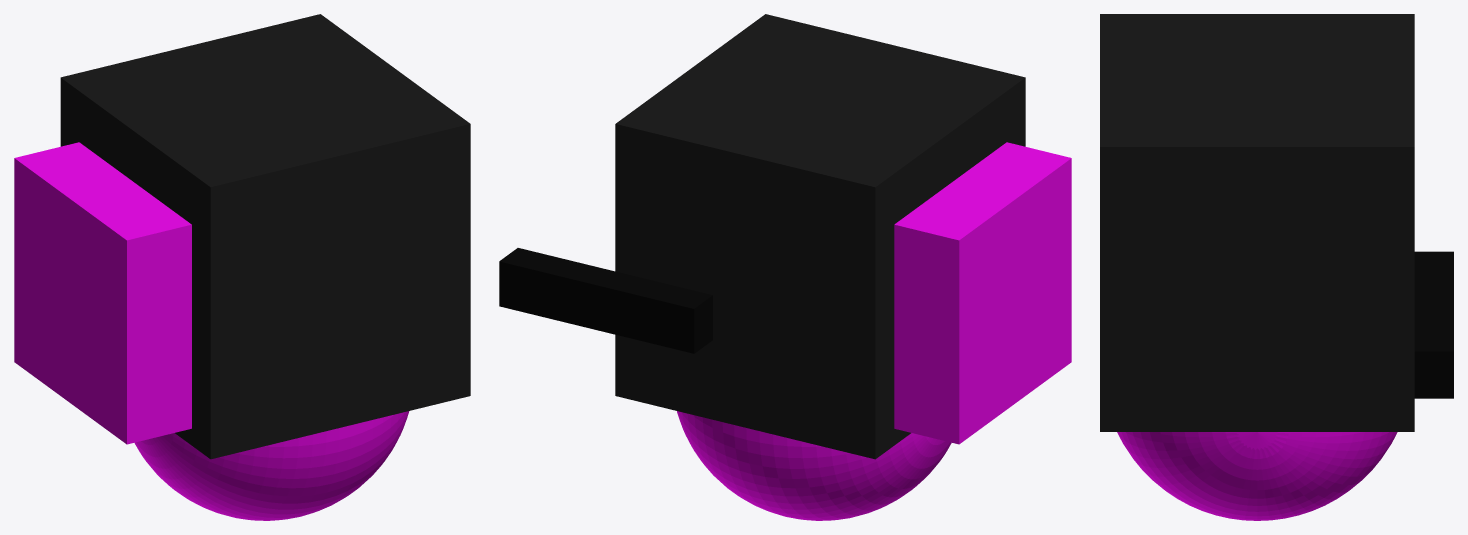
File: vanguardMarine.obj
3 renders of one model, left to right at view 1: azimuth 30°, elevation 25°; view 2: azimuth 150°, elevation 25°; view 3: azimuth 270°, elevation 25°, orthographic. The views are drawn at different scales.
Visible parts, largest first — view 1: Cube, Cube.001, Sphere; view 2: Cube, Cube.001, Sphere, Cube.002; view 3: Cube, Sphere, Cube.002.
Part boxes in pixels (box(x1,y1,x2,y2)): Cube: box(60, 14, 470, 459); Cube.001: box(14, 142, 191, 444); Sphere: box(134, 411, 409, 520); Cube: box(615, 14, 1025, 459); Cube.001: box(894, 142, 1071, 444); Sphere: box(677, 411, 951, 520); Cube.002: box(499, 248, 712, 353); Cube: box(1100, 14, 1414, 431); Sphere: box(1117, 432, 1397, 520); Cube.002: box(1414, 251, 1453, 398).
Size of the model in its own units: 26 by 23.9 by 18.
